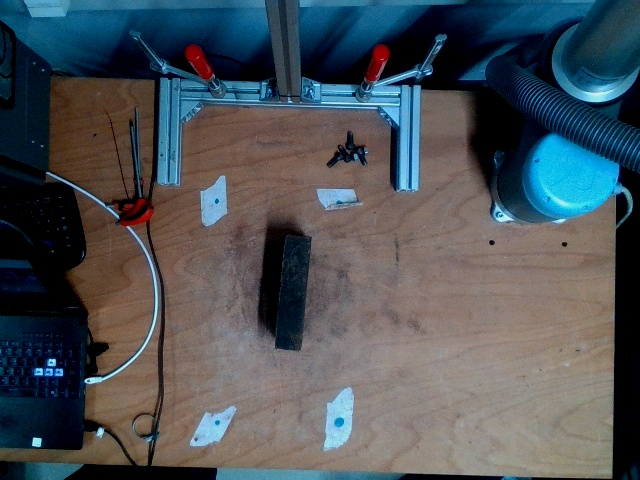brick-side: (272, 237, 310, 351)
